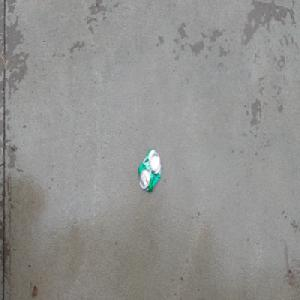SodaCan: (137, 147, 162, 194)
